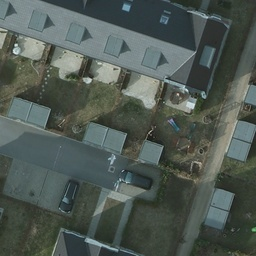car: (59, 181, 78, 216)
van: (119, 168, 152, 190)
